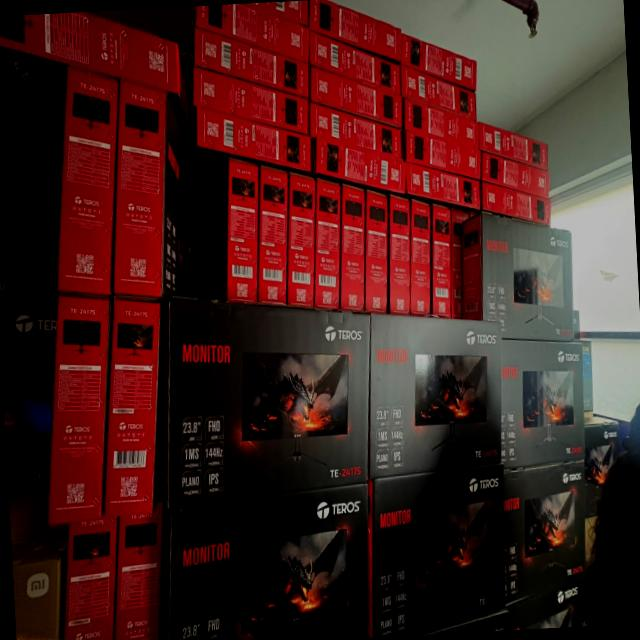caja-monitor: (168, 296, 371, 508), (169, 486, 369, 640), (373, 464, 506, 637), (369, 312, 503, 481), (460, 214, 574, 342), (0, 12, 178, 91), (52, 296, 108, 524), (58, 70, 114, 292), (105, 296, 161, 516), (504, 461, 585, 606), (117, 84, 169, 293), (502, 340, 585, 470), (194, 26, 309, 97), (197, 105, 312, 171), (195, 69, 308, 135), (195, 6, 309, 65), (115, 502, 163, 640), (68, 520, 117, 640), (310, 33, 400, 96), (310, 0, 401, 61), (311, 67, 402, 128), (310, 102, 403, 160), (315, 139, 405, 195), (226, 157, 260, 301), (401, 33, 476, 91), (401, 66, 476, 120), (258, 166, 287, 305), (507, 578, 583, 630), (287, 172, 316, 308), (405, 97, 478, 149), (405, 131, 481, 179), (479, 124, 551, 173), (585, 424, 621, 519), (406, 163, 480, 209), (481, 181, 551, 226), (315, 180, 339, 308), (341, 183, 365, 310), (481, 154, 551, 197), (365, 191, 387, 313), (411, 199, 432, 317), (391, 194, 410, 316), (452, 208, 471, 319), (433, 206, 451, 319), (243, 0, 308, 27)
